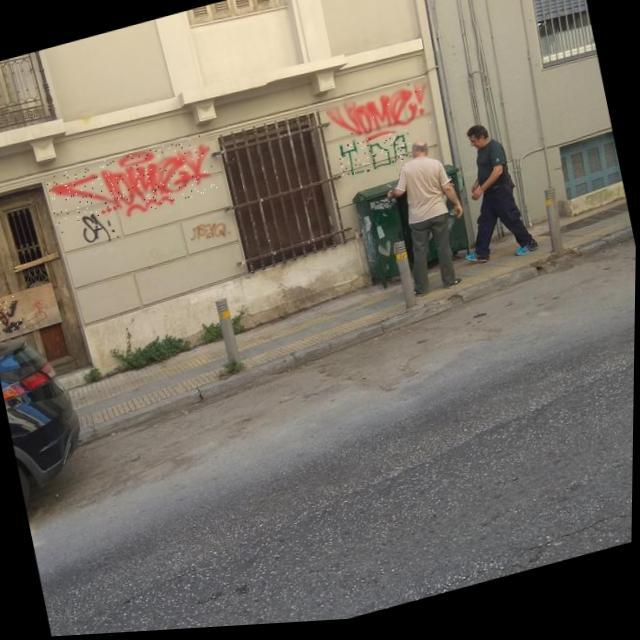-: (45, 134, 219, 236), (324, 80, 438, 156), (337, 132, 414, 182), (80, 206, 122, 248), (188, 217, 234, 249), (0, 294, 27, 336)
